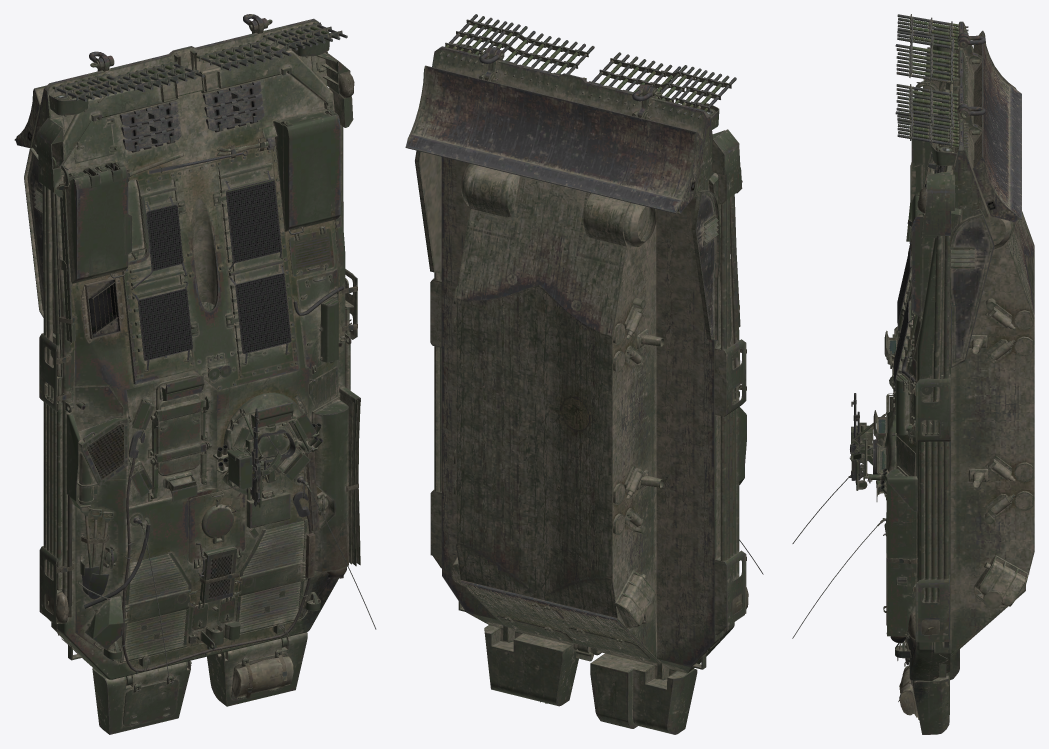
The model's file is Hull.glb.
3 renders of one model, left to right at view 1: azimuth 30°, elevation 25°; view 2: azimuth 150°, elevation 25°; view 3: azimuth 270°, elevation 25°, orthographic. The views are drawn at different scales.
Visible parts, largest first — view 1: set_0_group_0; view 2: set_0_group_0; view 3: set_0_group_0.
Part boxes in pixels (x1,y1,x2,y2): set_0_group_0: [14, 14, 376, 734]; set_0_group_0: [405, 14, 763, 734]; set_0_group_0: [792, 14, 1034, 734].
Bounding box in the file's own units: 3.68 × 7.6 × 2.67.
1 material, 1 textured.
